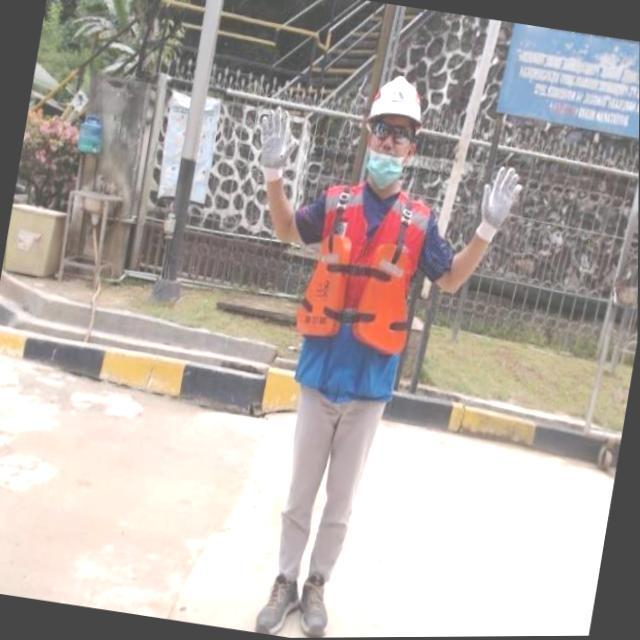goggles_on: (367, 118, 418, 149)
